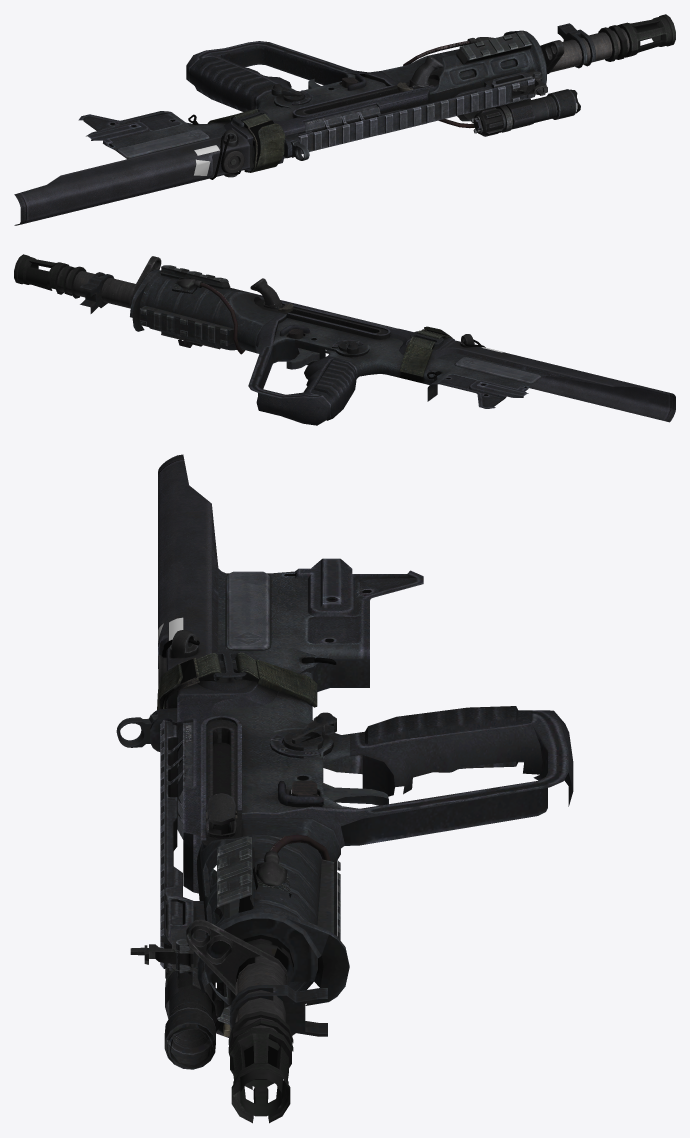
File: t6_wpn_ar_x95l_view_LOD0.obj
3 views of the same model, one above another, from view 1: azimuth 30°, elevation 25°; view 2: azimuth 150°, elevation 25°; view 3: azimuth 270°, elevation 25° (orthographic). The views are drawn at different scales.
Visible parts, largest first — view 1: mtl_t6_wpn_ar_x95l_camo1, mtl_t6_wpn_ar_x95l_camo4, mtl_t6_wpn_ar_x95l_camo2, mtl_t6_wpn_ar_x95l_camo3, mtl_t6_wpn_ar_x95l_cord; view 2: mtl_t6_wpn_ar_x95l_camo1, mtl_t6_wpn_ar_x95l_camo2, mtl_t6_wpn_ar_x95l_camo4, mtl_t6_wpn_ar_x95l_camo3; view 3: mtl_t6_wpn_ar_x95l_camo1, mtl_t6_wpn_ar_x95l_camo2, mtl_t6_wpn_ar_x95l_camo4, mtl_t6_wpn_ar_x95l_camo3.
Boxes of the visible parts, <box> form: mtl_t6_wpn_ar_x95l_camo1: <box>14,19,662,225</box>; mtl_t6_wpn_ar_x95l_camo4: <box>86,14,675,164</box>; mtl_t6_wpn_ar_x95l_camo2: <box>78,28,629,172</box>; mtl_t6_wpn_ar_x95l_camo3: <box>381,49,535,102</box>; mtl_t6_wpn_ar_x95l_cord: <box>188,114,240,179</box>; mtl_t6_wpn_ar_x95l_camo1: <box>26,256,675,425</box>; mtl_t6_wpn_ar_x95l_camo2: <box>57,267,549,408</box>; mtl_t6_wpn_ar_x95l_camo4: <box>14,254,541,420</box>; mtl_t6_wpn_ar_x95l_camo3: <box>145,275,279,353</box>; mtl_t6_wpn_ar_x95l_camo1: <box>130,454,573,1116</box>; mtl_t6_wpn_ar_x95l_camo2: <box>116,560,423,1031</box>; mtl_t6_wpn_ar_x95l_camo4: <box>160,558,518,1123</box>; mtl_t6_wpn_ar_x95l_camo3: <box>196,819,340,1005</box>.
Size of the model in its own units: 85.77 by 10.93 by 26.94.
